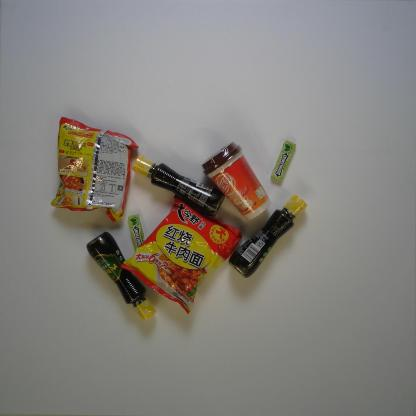Gum: (270, 140, 298, 182), (128, 213, 146, 253)
Instant Drink: (201, 140, 273, 222)
Instant Noodles: (120, 193, 243, 315), (49, 115, 140, 224)
Seasoner: (227, 195, 308, 279), (85, 231, 157, 321), (132, 154, 226, 219)
